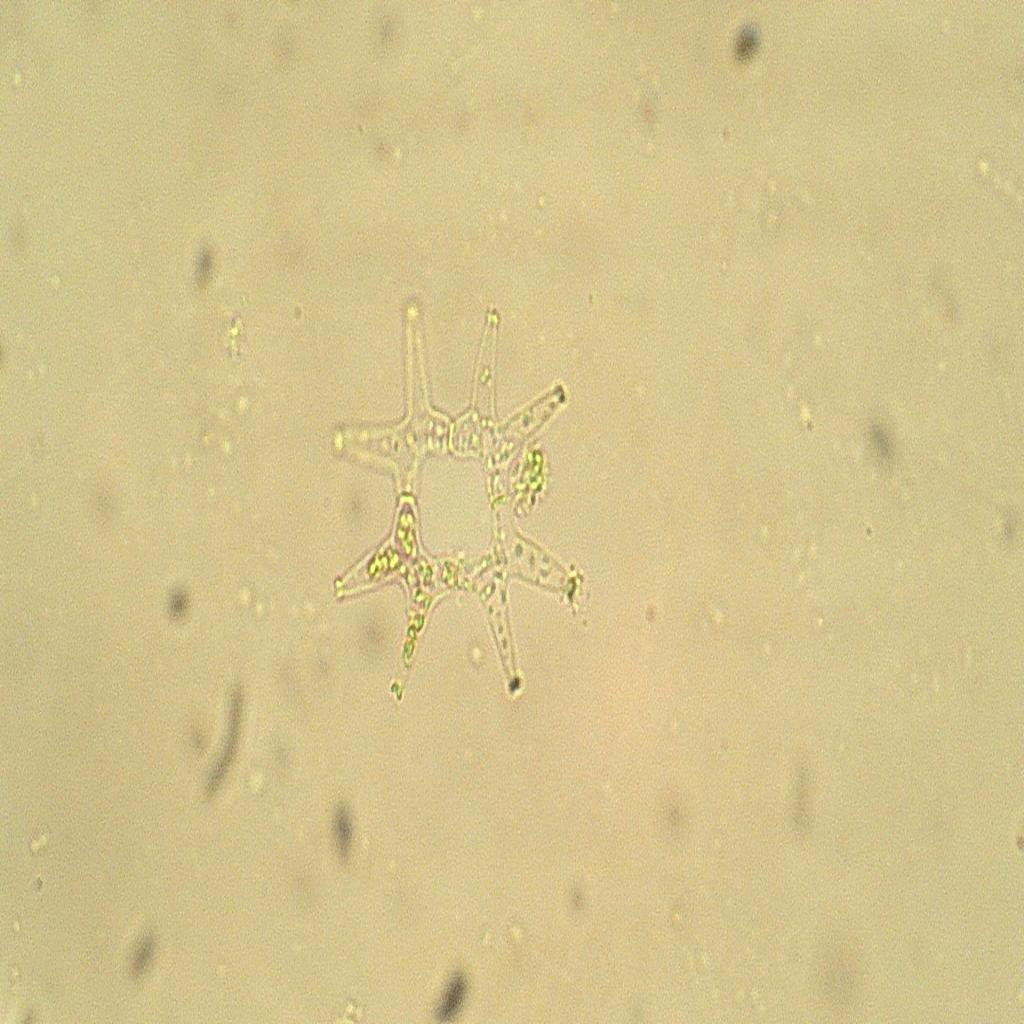Pediastrum_75TH: (322, 286, 596, 724)
